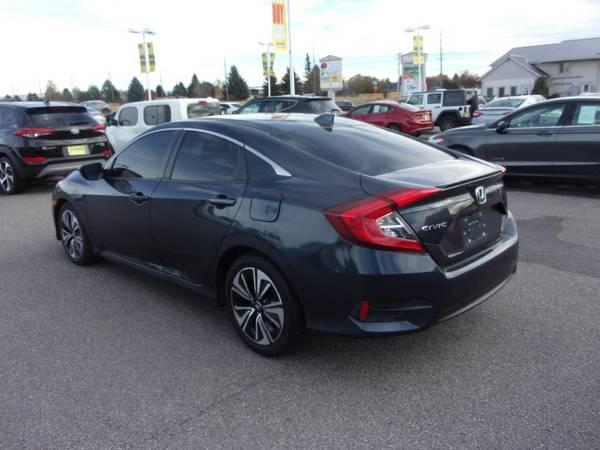Front_Fender: (52, 170, 94, 250)
Front_Left_Door: (86, 179, 158, 275)
Front_Left_Window: (94, 131, 180, 182)
Left_Taillight: (323, 185, 441, 252)
Rear_Bumper: (279, 210, 520, 339)
Rear_Fender: (226, 147, 372, 271)
Rear_Left_Door: (142, 183, 245, 299)
Rear_Left_Window: (159, 131, 248, 186)
Rear_Windshield: (281, 121, 461, 174)
Roof: (133, 110, 366, 184)
Tailgate: (362, 155, 509, 268)
Wheel: (217, 258, 289, 358), (57, 205, 87, 264)
